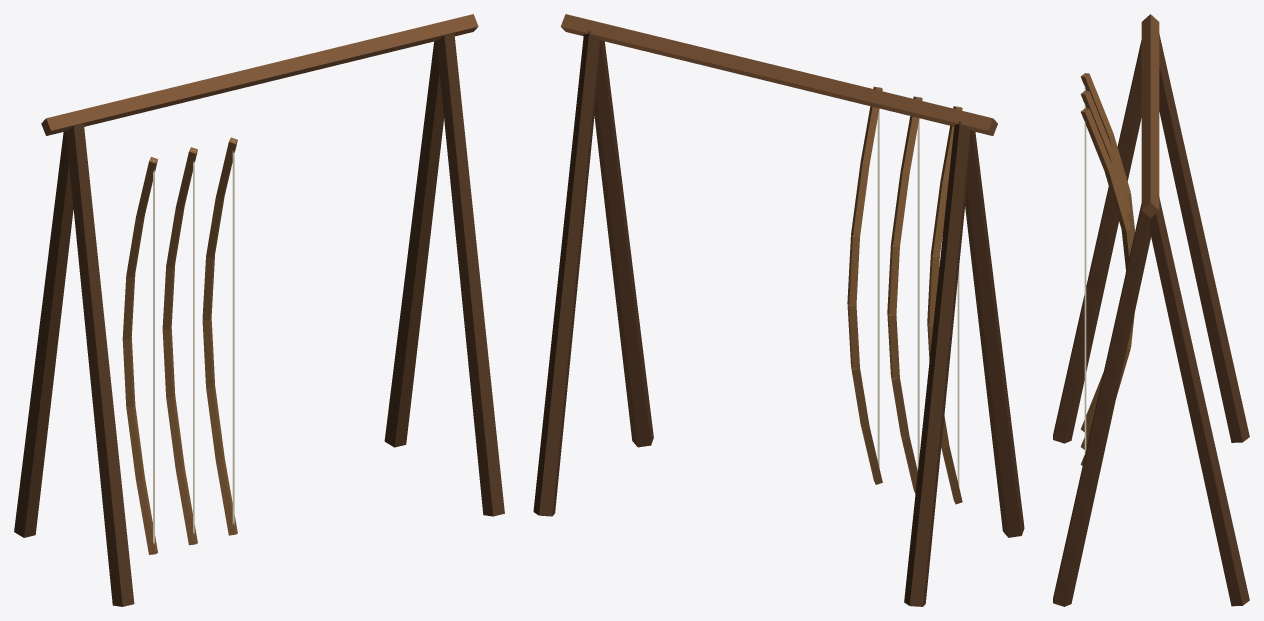
The model's file is pile_bows_1.glb.
3 views of the same model, side by side, from view 1: azimuth 30°, elevation 25°; view 2: azimuth 150°, elevation 25°; view 3: azimuth 270°, elevation 25° (orthographic). The views are drawn at different scales.
Parts seen in each view (by area): view 1: pile_bows_1; view 2: pile_bows_1; view 3: pile_bows_1.
Part boxes in pixels (x1,y1,x2,y2): pile_bows_1: [14, 14, 504, 606]; pile_bows_1: [533, 14, 1024, 606]; pile_bows_1: [1053, 14, 1249, 606].
Size of the model in its own units: 1.5 by 1.54 by 0.6621.
